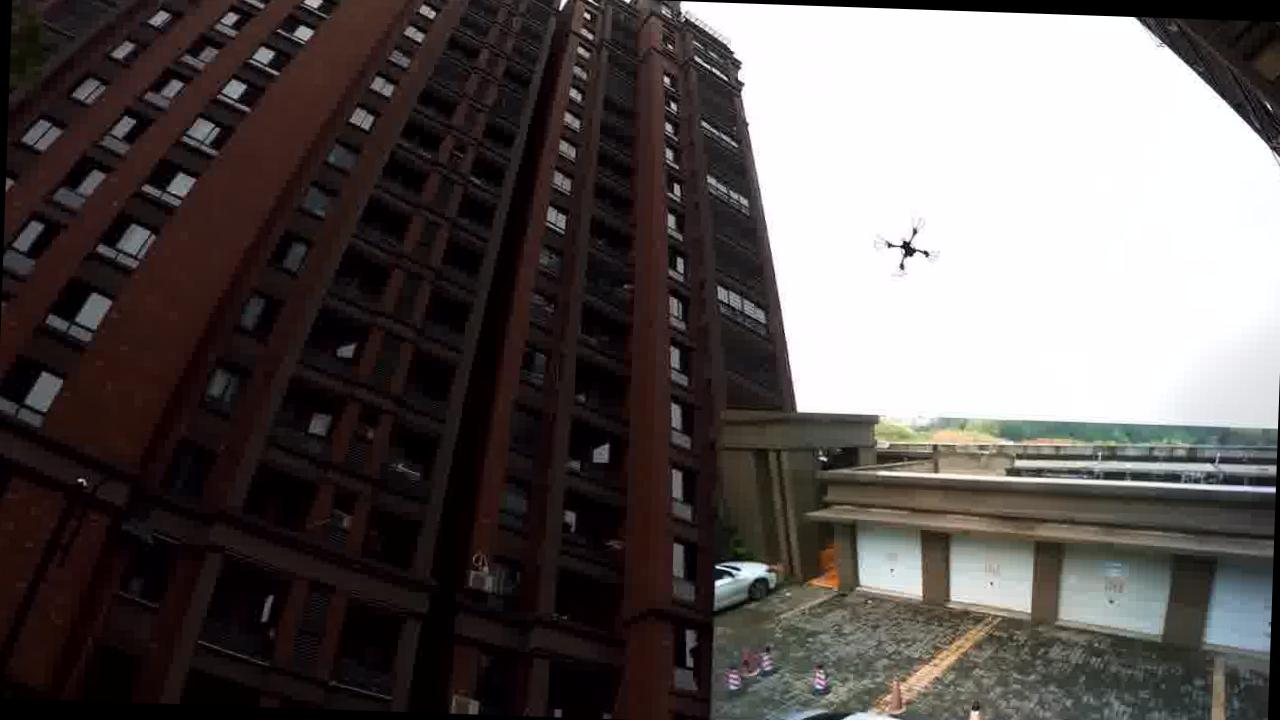drone: (879, 216, 941, 278)
